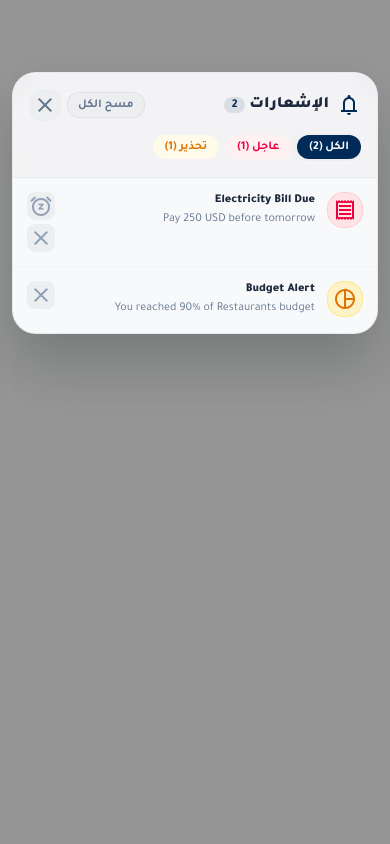
Scenario: NotifPanel Component › dismisses a notification item
Expected: the text "Electricity Bill Due" is shown, [215,194,315,206]
Click the button titled "تجاهل" below "Pay 250 USD before tomorrow". click: (41, 238)
box: [27,224,55,252]
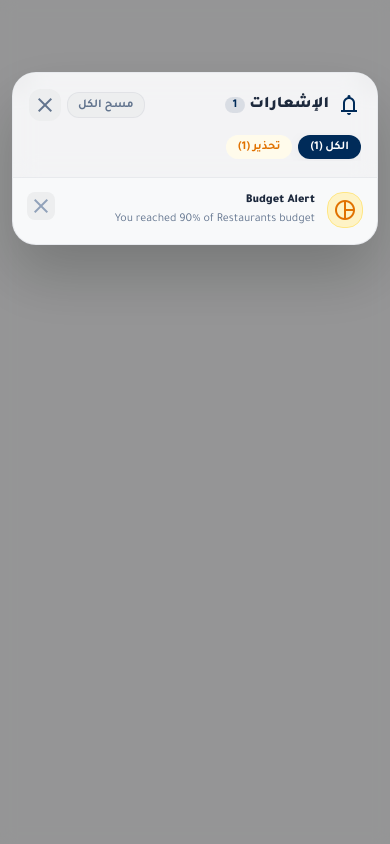
Result: the text "Electricity Bill Due" is gone
